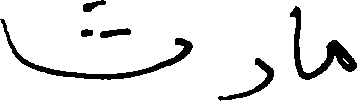ا: (287, 4, 302, 79)
ث: (0, 0, 192, 80)
ر: (219, 55, 273, 99)
م: (325, 37, 355, 72)
